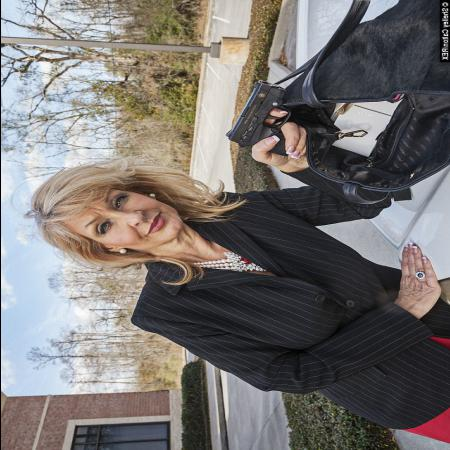Pistol: (221, 79, 291, 156)
